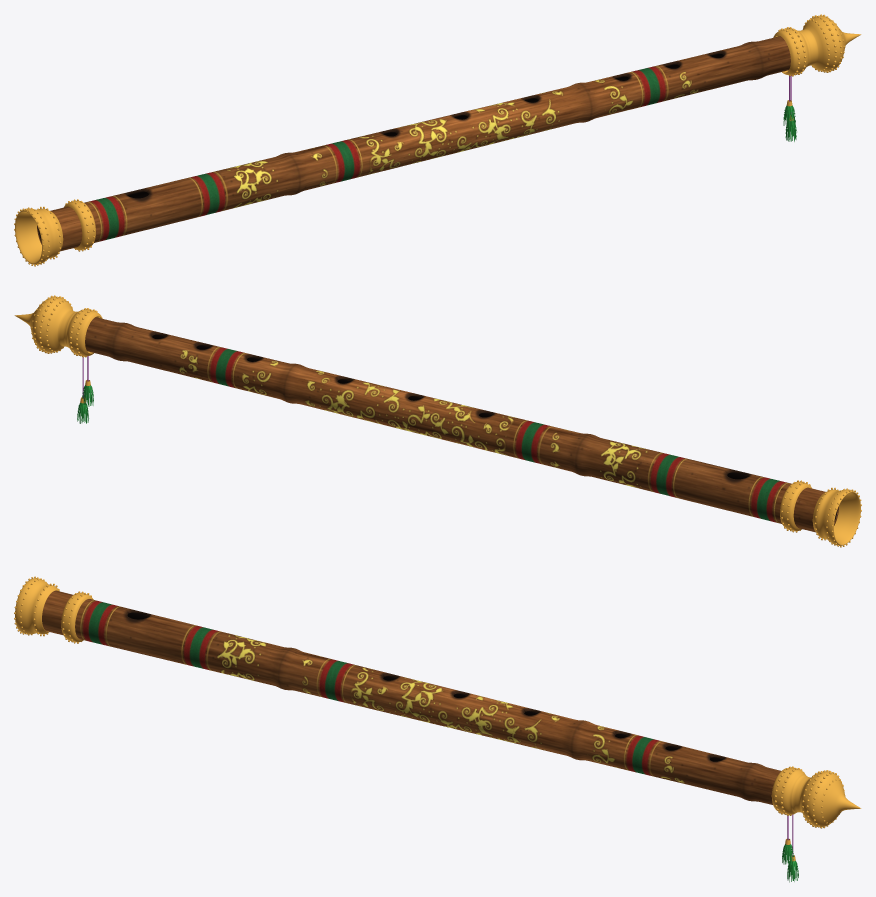
The model's file is flute.gltf.
3 renders of one model, top to bottom at view 1: azimuth 30°, elevation 25°; view 2: azimuth 150°, elevation 25°; view 3: azimuth 330°, elevation 25°, orthographic.
Visible parts, largest first — view 1: Body, Gold, Tassels; view 2: Body, Gold, Tassels; view 3: Body, Gold.
Boxes of the visible parts, box(x1,y1,x2,y2) form: Body: box(37, 36, 790, 251); Gold: box(14, 14, 861, 266); Tassels: box(783, 75, 796, 141); Body: box(85, 317, 838, 532); Gold: box(14, 295, 861, 547); Tassels: box(77, 356, 93, 423); Body: box(42, 590, 780, 804); Gold: box(14, 576, 861, 828).
Size of the model in its own units: 4.13 by 0.5507 by 0.2542.
Materials: 7 (1 with a texture image).
